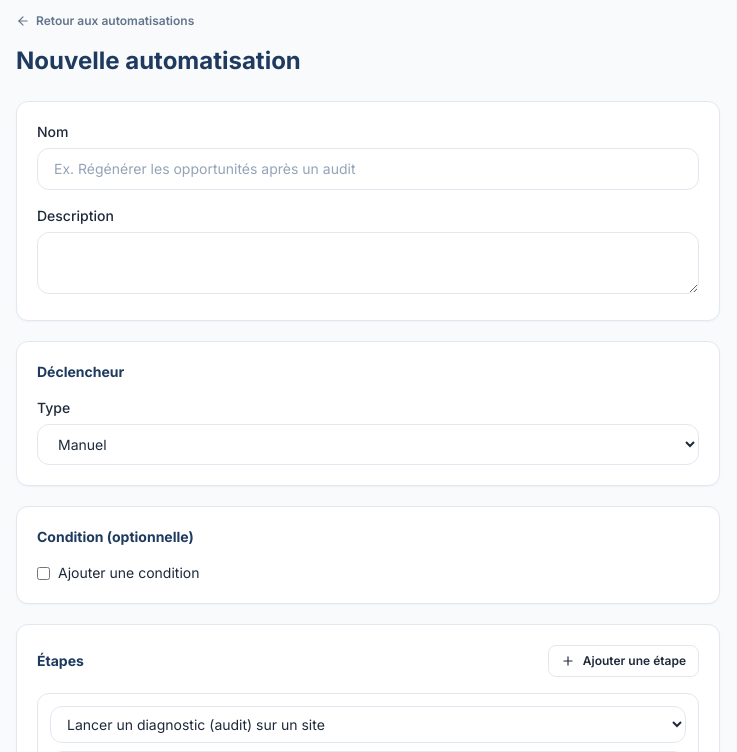
Test case: PageOpsAutomationForm — scheduling builder (create) › defaults the timezone field to the browser timezone
In the field with placeholder "Ex. Régénérer les opportunités après un audit": (368, 169) [37,148,699,190], type "Test"
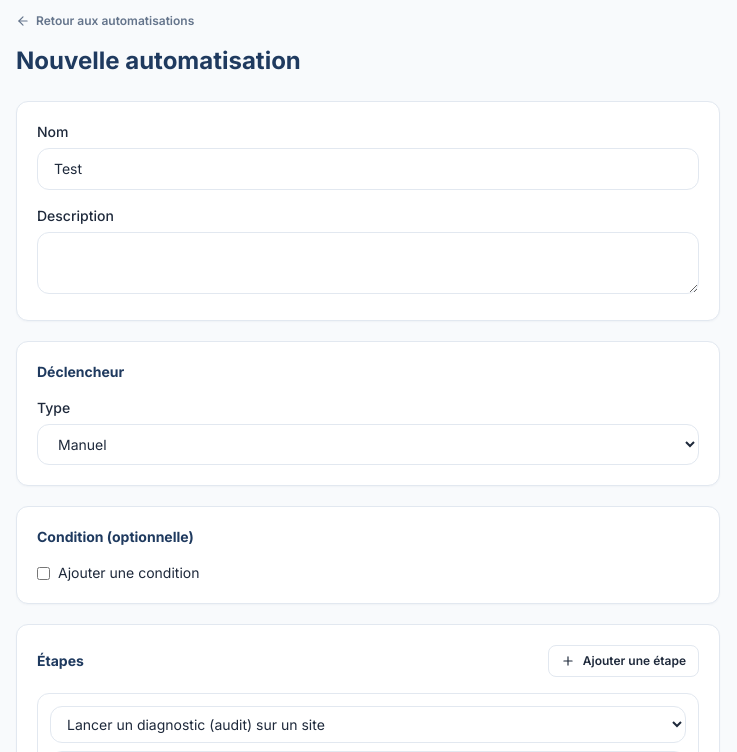
Select "Planifié" in the dropdown showing "Manuel" below "Type": (368, 444) [37,424,699,465]
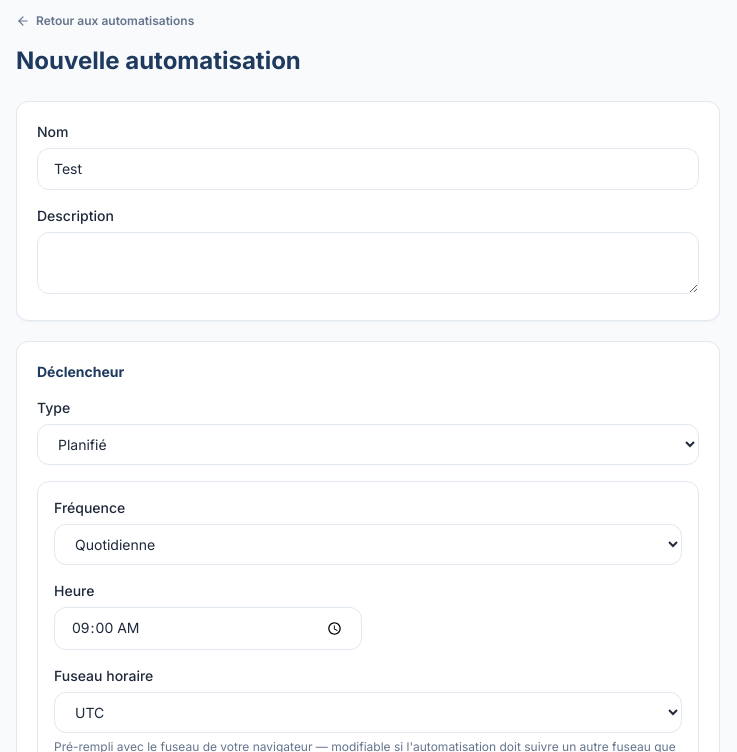
Result: the dropdown named "Fuseau horaire" shows "UTC" at [54,692,682,733]
